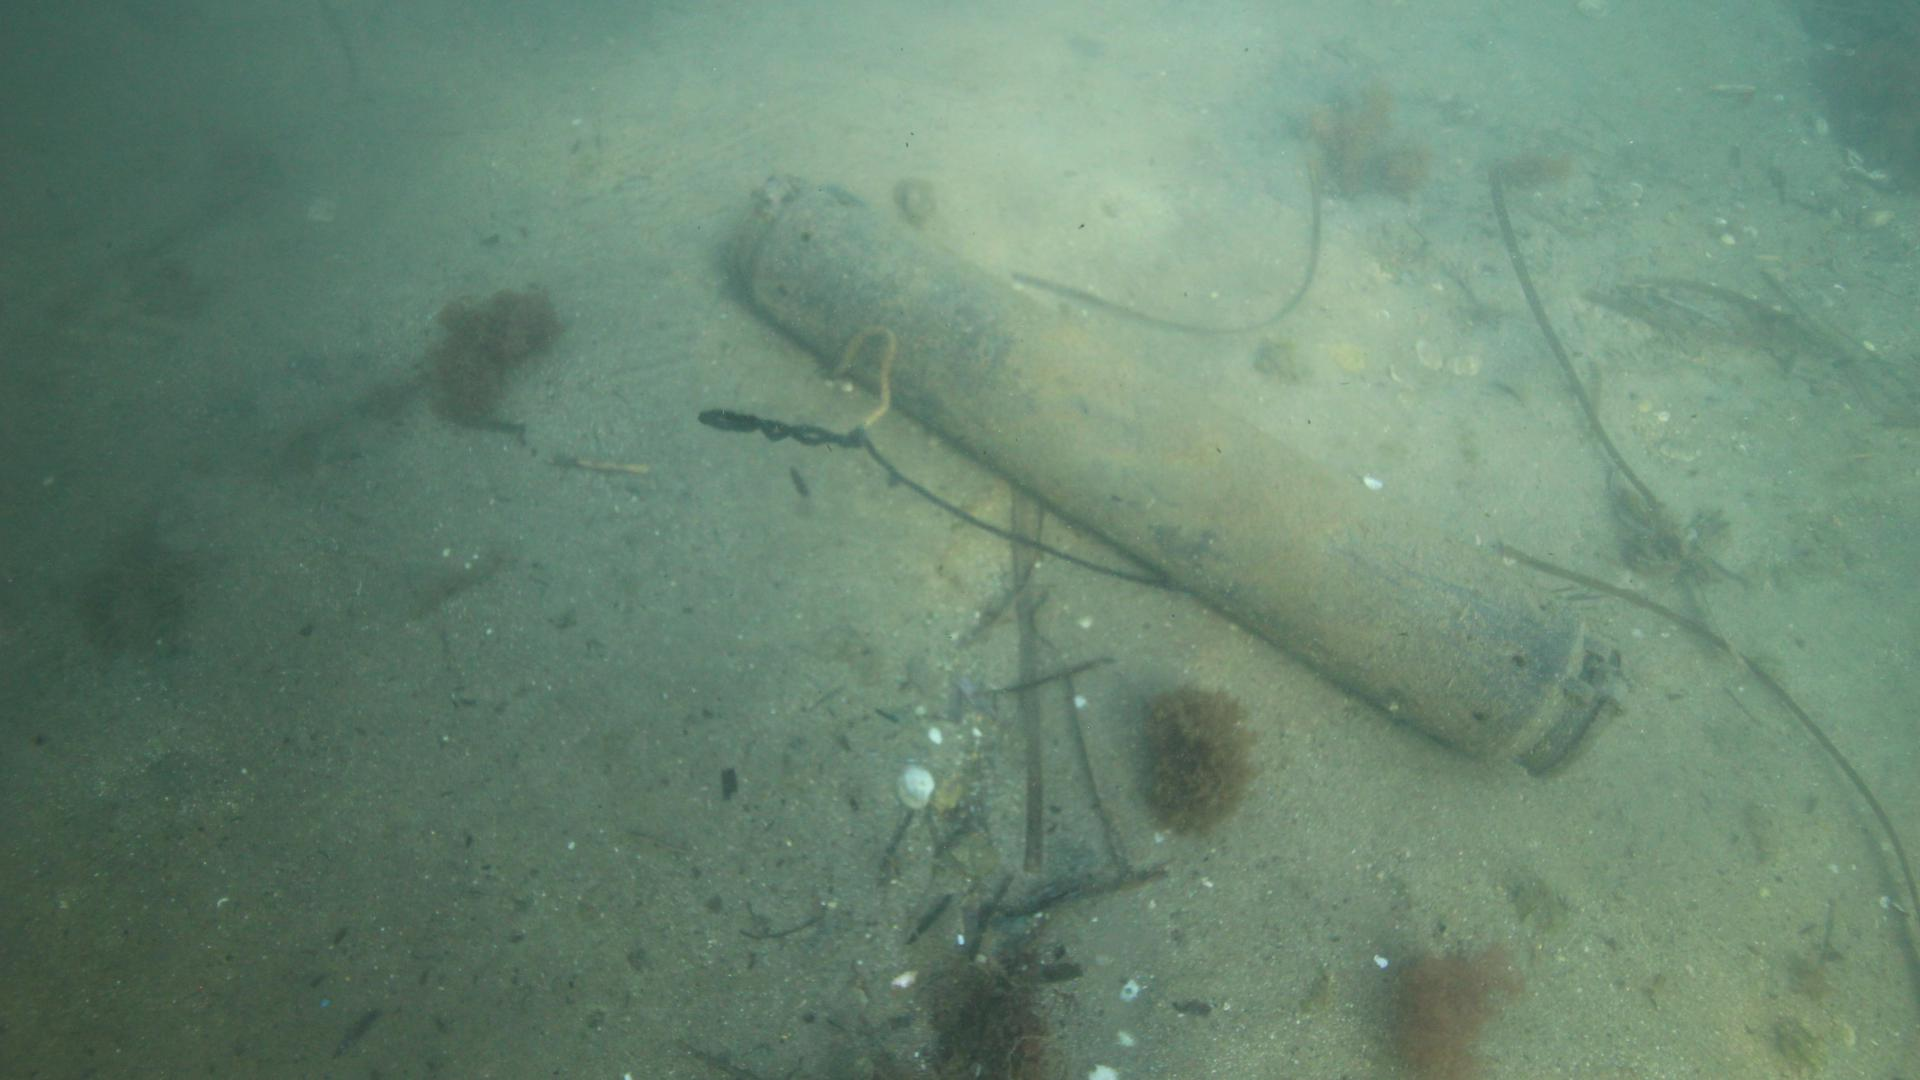eel fish trap: (723, 171, 1633, 778)
rope: (692, 320, 1183, 592)
